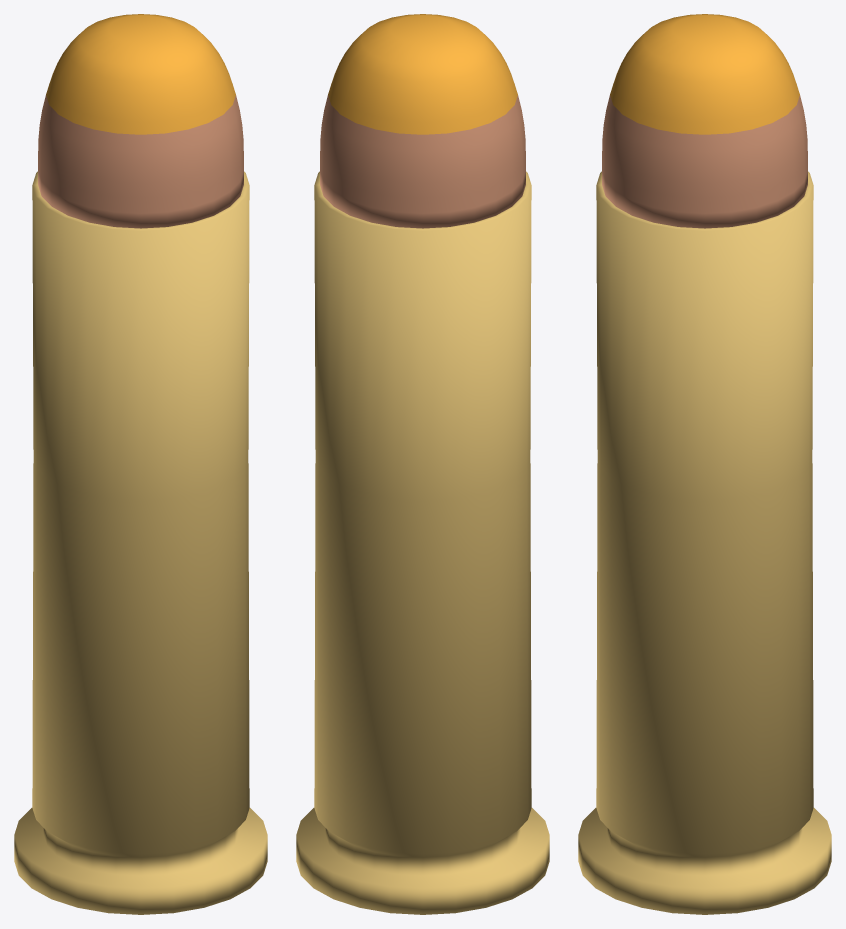
3 views of the same model, side by side, from view 1: azimuth 30°, elevation 25°; view 2: azimuth 150°, elevation 25°; view 3: azimuth 270°, elevation 25° (orthographic).
Parts seen in each view (by area): view 1: vaina, bala_cuerpo, punta; view 2: vaina, bala_cuerpo, punta; view 3: vaina, bala_cuerpo, punta.
Part boxes in pixels (x1=…): vaina: x1=14, y1=171, x2=267, y2=914; bala_cuerpo: x1=38, y1=95, x2=243, y2=228; punta: x1=46, y1=14, x2=235, y2=134; vaina: x1=296, y1=171, x2=549, y2=914; bala_cuerpo: x1=320, y1=95, x2=525, y2=228; punta: x1=328, y1=14, x2=517, y2=134; vaina: x1=578, y1=171, x2=831, y2=914; bala_cuerpo: x1=602, y1=95, x2=807, y2=228; punta: x1=610, y1=14, x2=799, y2=134.
Size of the model in its own units: 0.0112 by 0.0406 by 0.0112.
